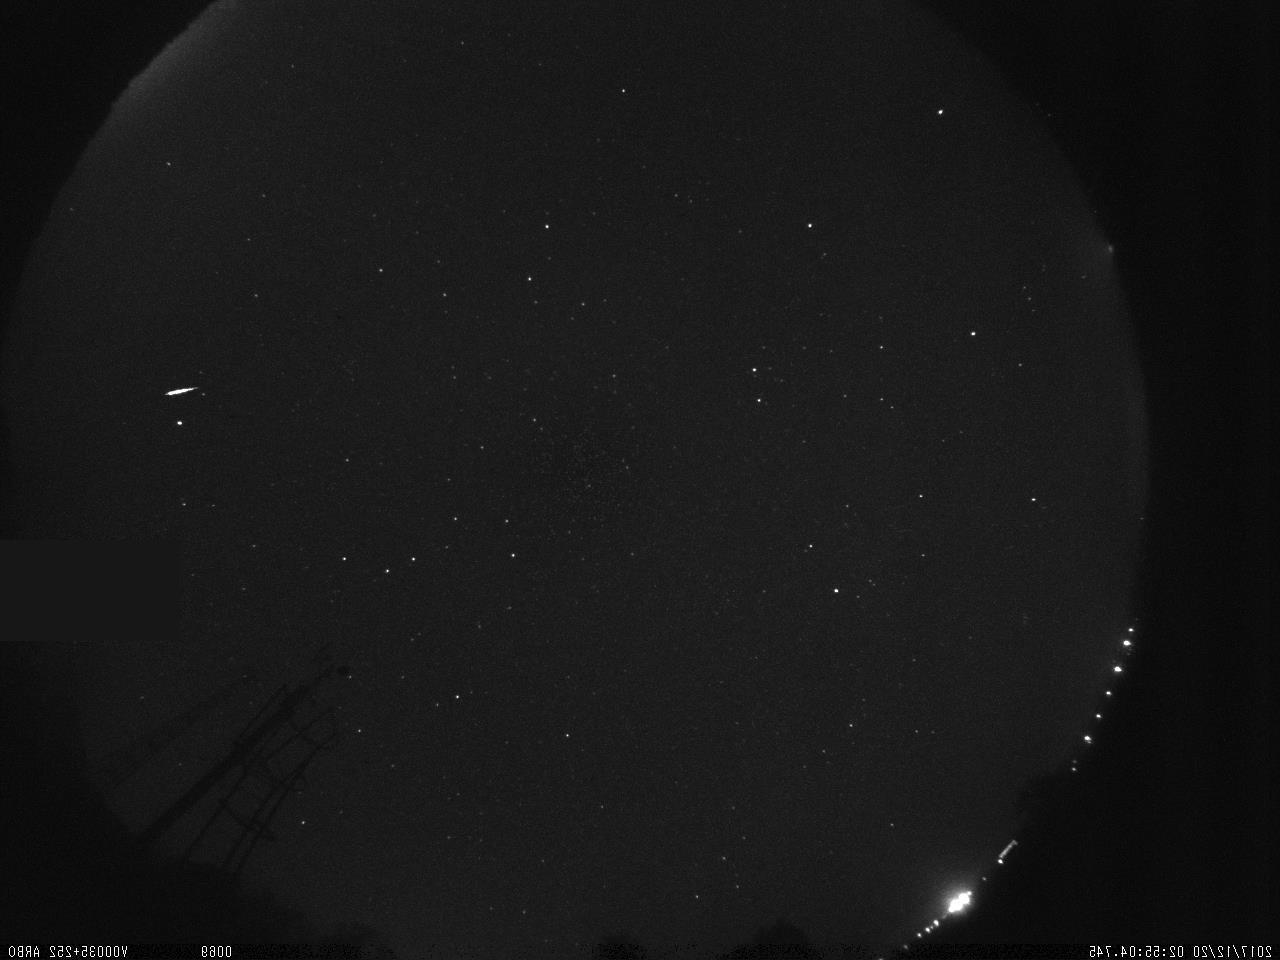meteor: (158, 370, 211, 406)
